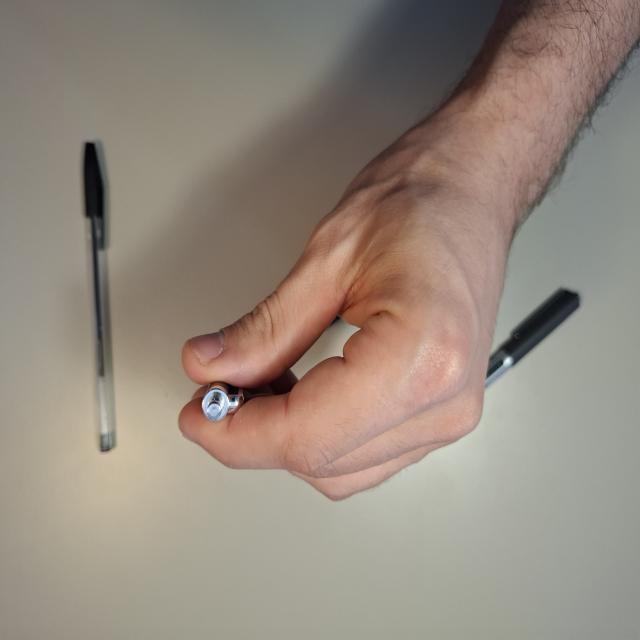glove_off: (175, 120, 551, 504)
